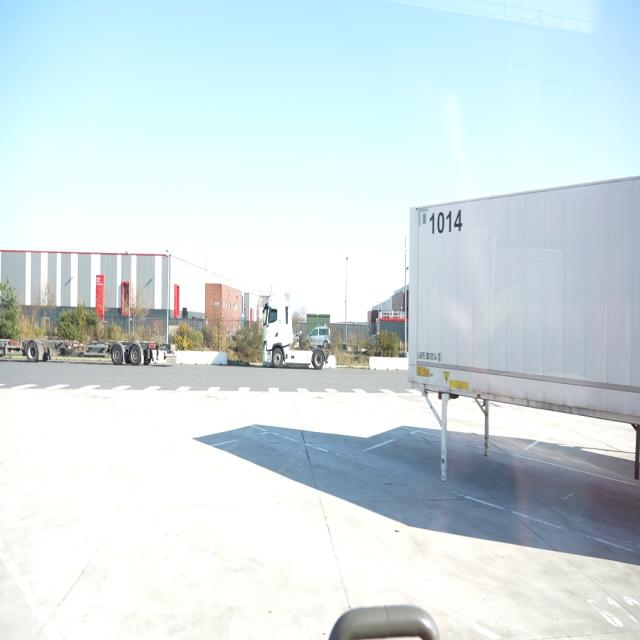Code: (424, 205, 468, 238)
